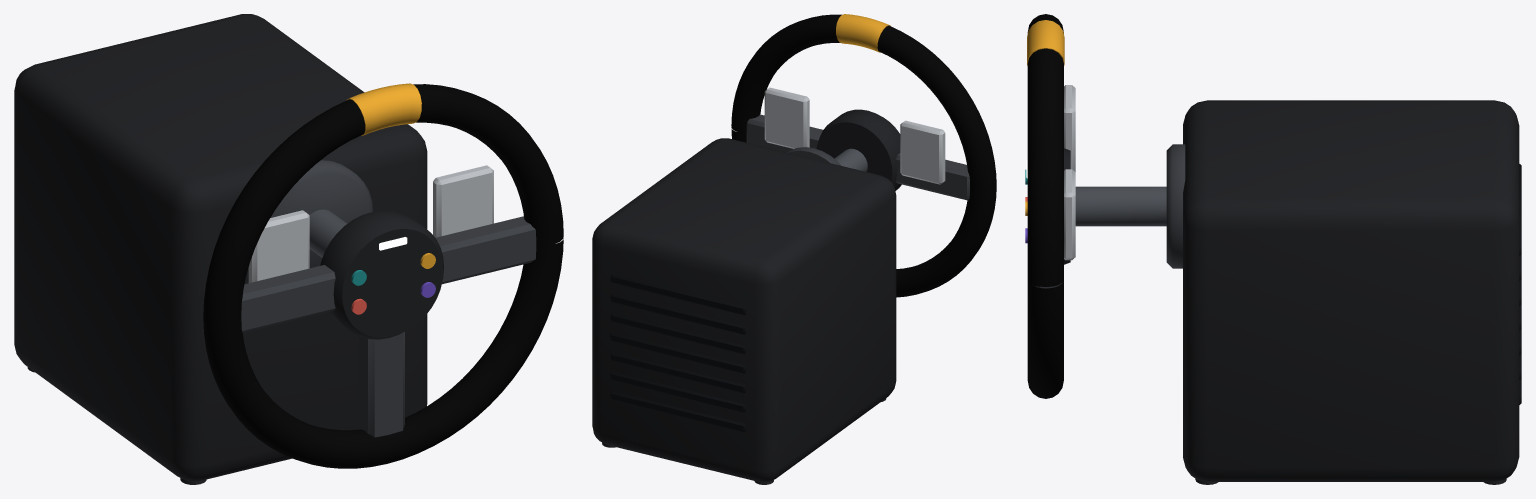
The model's file is racing-wheel.glb.
3 views of the same model, side by side, from view 1: azimuth 30°, elevation 25°; view 2: azimuth 150°, elevation 25°; view 3: azimuth 270°, elevation 25° (orthographic). The views are drawn at different scales.
Parts seen in each view (by area): view 1: Wheel_Base, Steering_Wheel; view 2: Wheel_Base, Steering_Wheel; view 3: Wheel_Base, Steering_Wheel.
Boxes of the visible parts, bbox=[...] form: Wheel_Base: bbox=[14, 14, 427, 484]; Steering_Wheel: bbox=[203, 83, 563, 468]; Wheel_Base: bbox=[592, 138, 896, 484]; Steering_Wheel: bbox=[731, 14, 996, 297]; Wheel_Base: bbox=[1166, 100, 1521, 484]; Steering_Wheel: bbox=[1025, 14, 1166, 398].
Size of the model in its own units: 0.309 by 0.3552 by 0.3985.
Materials: 12 (1 with a texture image).
